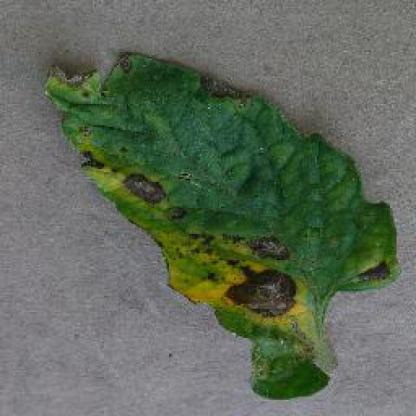Tomato_Blight: (44, 54, 399, 396)
